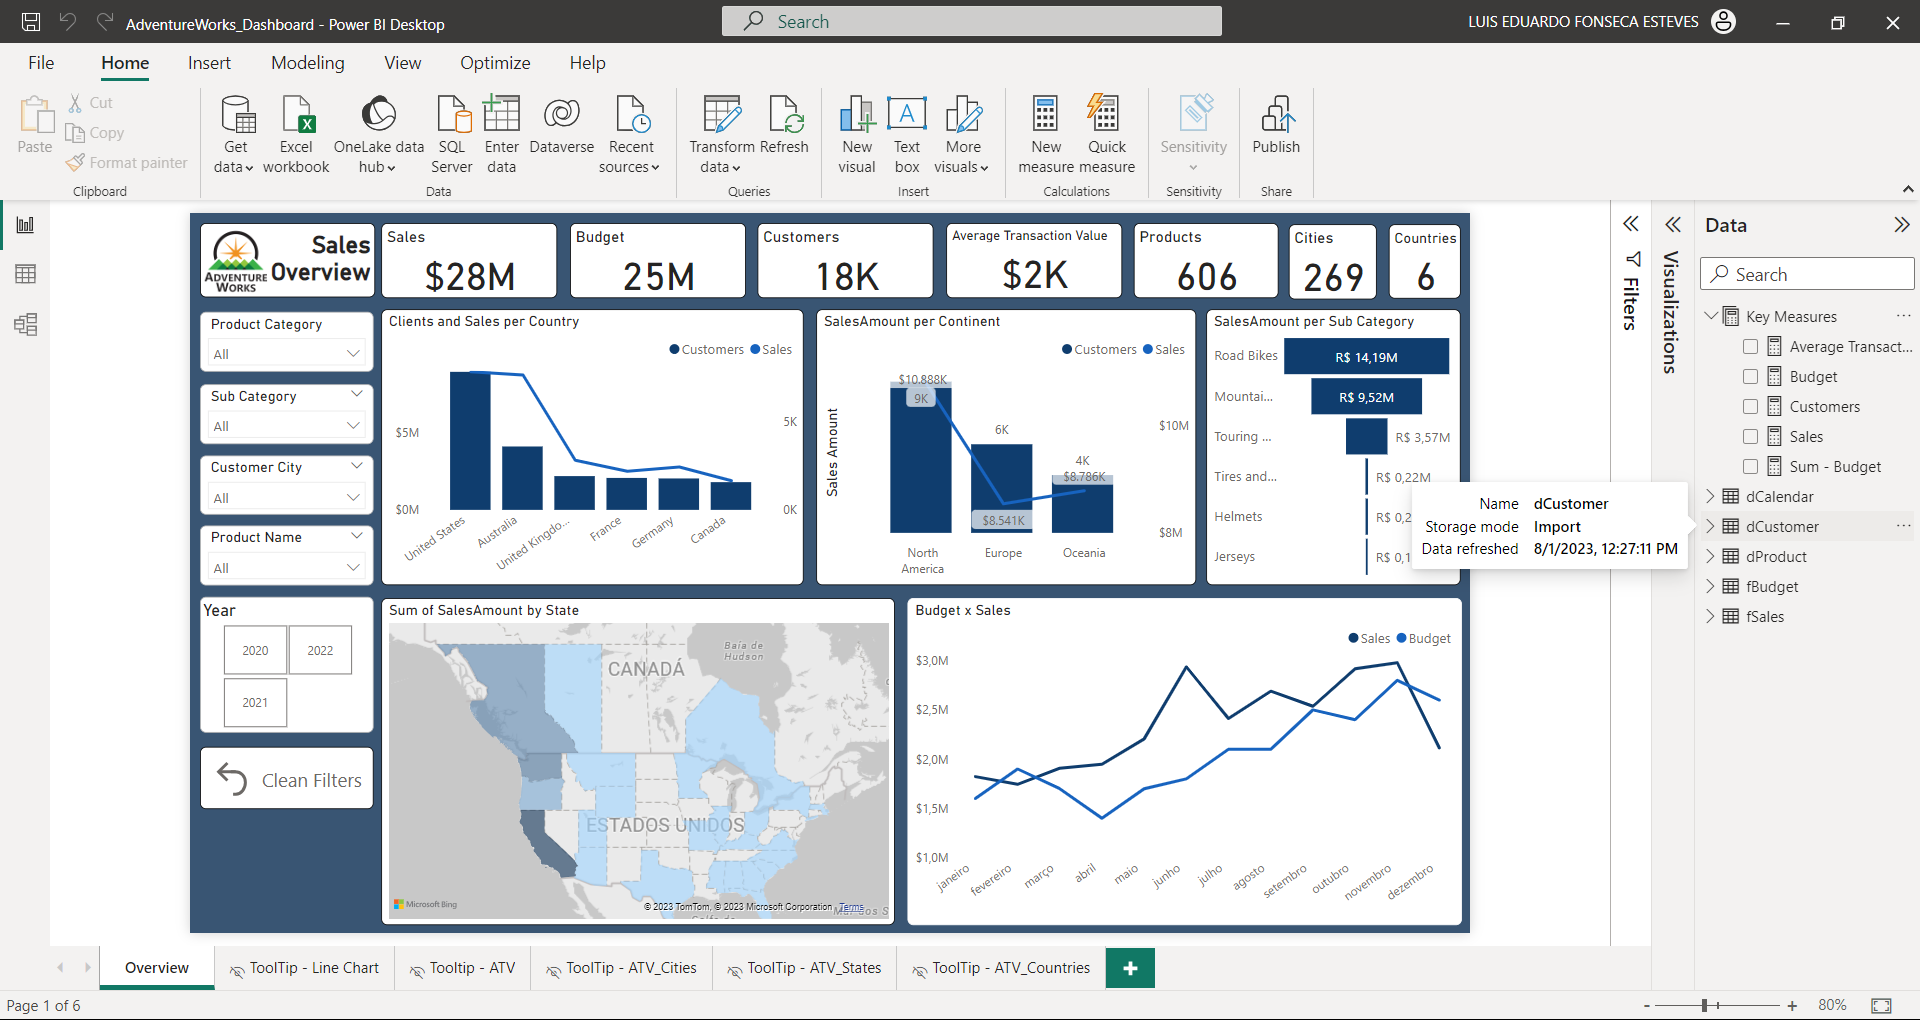

What the dashboard file says about the page in this screenshot:
{"tool":"powerbi","page":{"name":"Overview","canvas":[1280,720],"ordinal":0},"visuals":[{"type":"slicer","fields":{"Values":["dProduct.Product Category"]},"box":[9.9,98.4,173.7,60.3],"z":0},{"type":"slicer","fields":{"Values":["dProduct.Sub Category"]},"box":[9.9,170.8,173.7,60.3],"z":1000},{"type":"slicer","fields":{"Values":["dCustomer.Customer City"]},"box":[9.9,241.9,173.7,59.1],"z":2000},{"type":"slicer","fields":{"Values":["dProduct.Product Name"]},"box":[9.9,311.9,173.7,60.3],"z":3000},{"type":"slicer","title":"Year","fields":{"Values":["dCalendar.Ano"]},"box":[9.9,384.2,173.7,136.3],"z":4000},{"type":"lineChart","title":"Budget x Sales","fields":{"Category":["dCalendar.FullDateAlternateKey.Variation.Hierarquia de datas.Ano","dCalendar.FullDateAlternateKey.Variation.Hierarquia de datas.Mês"],"Y":["Key Measures.Sales","Key Measures.Budget"]},"box":[717.6,384.7,554.8,326.8],"z":5000},{"type":"lineStackedColumnComboChart","title":"Clients and Sales per Country","fields":{"Category":["dCustomer.Customer Country"],"Y":["Key Measures.Customers Qty."],"Y2":["Key Measures.Sales"]},"box":[191.8,96.5,422.1,276.2],"z":6000},{"type":"funnel","title":"SalesAmount per Sub Category","fields":{"Y":["Sum(fSales.SalesAmount)"],"Category":["dProduct.Sub Category"]},"box":[1016.7,96.5,254.5,276.2],"z":7000},{"type":"lineStackedColumnComboChart","title":"SalesAmount per Continent","fields":{"Y":["Key Measures.Customers Qty."],"Y2":["Key Measures.Sales"],"Category":["dCustomer.Continent"]},"box":[625.9,96.5,379.9,276.2],"z":8000},{"type":"card","title":"Sales","fields":{"Values":["Key Measures.Sales"]},"box":[191.8,9.6,176.1,75],"z":9000},{"type":"card","title":"Budget","fields":{"Values":["Key Measures.Budget Sum"]},"box":[379.9,9.6,176.1,75],"z":10000},{"type":"card","title":"Customers","fields":{"Values":["Key Measures.Customers Qty."]},"box":[568,9.6,176.1,75],"z":11000},{"type":"card","title":"Average Transaction Value","fields":{"Values":["Key Measures.Average Transaction Value"]},"box":[756.2,9.6,176.1,75],"z":12000},{"type":"card","title":"Countries","fields":{"Values":["Count(dCustomer.Customer Country)"]},"box":[1198.8,10.9,72.4,74.8],"z":13000},{"type":"card","title":"Cities","fields":{"Values":["Count(dCustomer.Customer City)"]},"box":[1098.7,10.9,88,75],"z":14000},{"type":"card","title":"Products","fields":{"Values":["Count(dProduct.ProductKey)"]},"box":[944.3,9.6,144.7,75],"z":15000},{"type":"textbox","box":[9.6,9.6,174.9,74.8],"z":16000},{"type":"image","box":[6,0,79.6,96.5],"z":17000},{"type":"actionButton","box":[9.6,534.3,173.7,62.7],"z":18000},{"type":"filledMap","fields":{"Category":["dCustomer.State"]},"box":[191.8,384.7,513.8,326.8],"z":19000}]}

Visuals, with their boxes on the page's 1280x720 design canvas (x1, y1, x2, y2). These are canvas units, not pixel positions in the 1920x1020 screenshot, which may show the page scaled, cropped or inside an application window:
slicer - dProduct.Product Category: [x1=10, y1=98, x2=184, y2=159]
slicer - dProduct.Sub Category: [x1=10, y1=171, x2=184, y2=231]
slicer - dCustomer.Customer City: [x1=10, y1=242, x2=184, y2=301]
slicer - dProduct.Product Name: [x1=10, y1=312, x2=184, y2=372]
"Year" slicer: [x1=10, y1=384, x2=184, y2=520]
"Budget x Sales" lineChart: [x1=718, y1=385, x2=1272, y2=712]
"Clients and Sales per Country" lineStackedColumnComboChart: [x1=192, y1=96, x2=614, y2=373]
"SalesAmount per Sub Category" funnel: [x1=1017, y1=96, x2=1271, y2=373]
"SalesAmount per Continent" lineStackedColumnComboChart: [x1=626, y1=96, x2=1006, y2=373]
"Sales" card: [x1=192, y1=10, x2=368, y2=85]
"Budget" card: [x1=380, y1=10, x2=556, y2=85]
"Customers" card: [x1=568, y1=10, x2=744, y2=85]
"Average Transaction Value" card: [x1=756, y1=10, x2=932, y2=85]
"Countries" card: [x1=1199, y1=11, x2=1271, y2=86]
"Cities" card: [x1=1099, y1=11, x2=1187, y2=86]
"Products" card: [x1=944, y1=10, x2=1089, y2=85]
textbox: [x1=10, y1=10, x2=184, y2=84]
image: [x1=6, y1=0, x2=86, y2=96]
actionButton: [x1=10, y1=534, x2=183, y2=597]
filledMap - dCustomer.State: [x1=192, y1=385, x2=706, y2=712]
